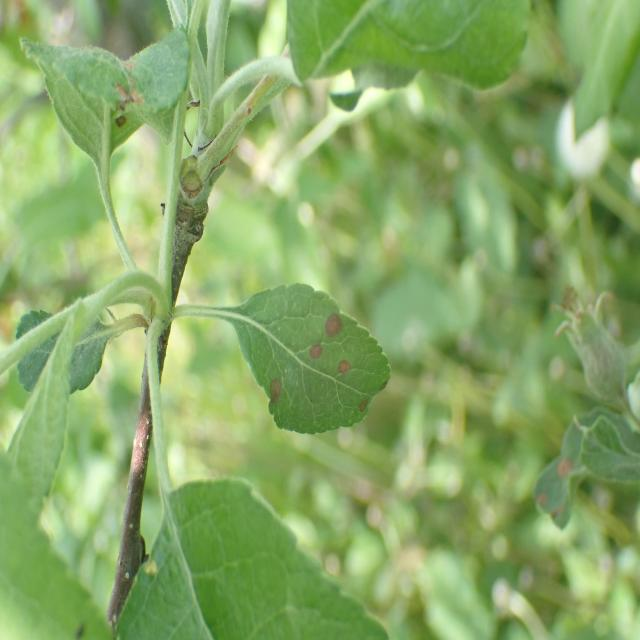frog-eye-leaf-spot: (233, 283, 392, 434)
